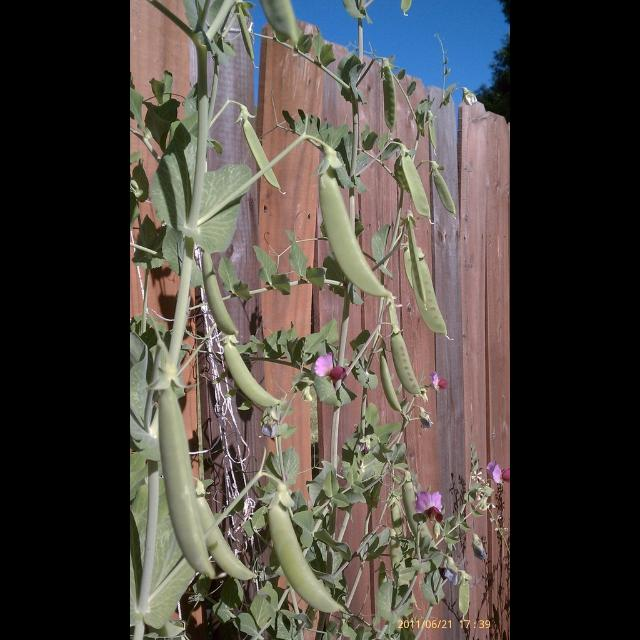Flower: (310, 350, 348, 382), (415, 488, 443, 522), (472, 536, 490, 568), (486, 460, 508, 482), (426, 372, 446, 392)
